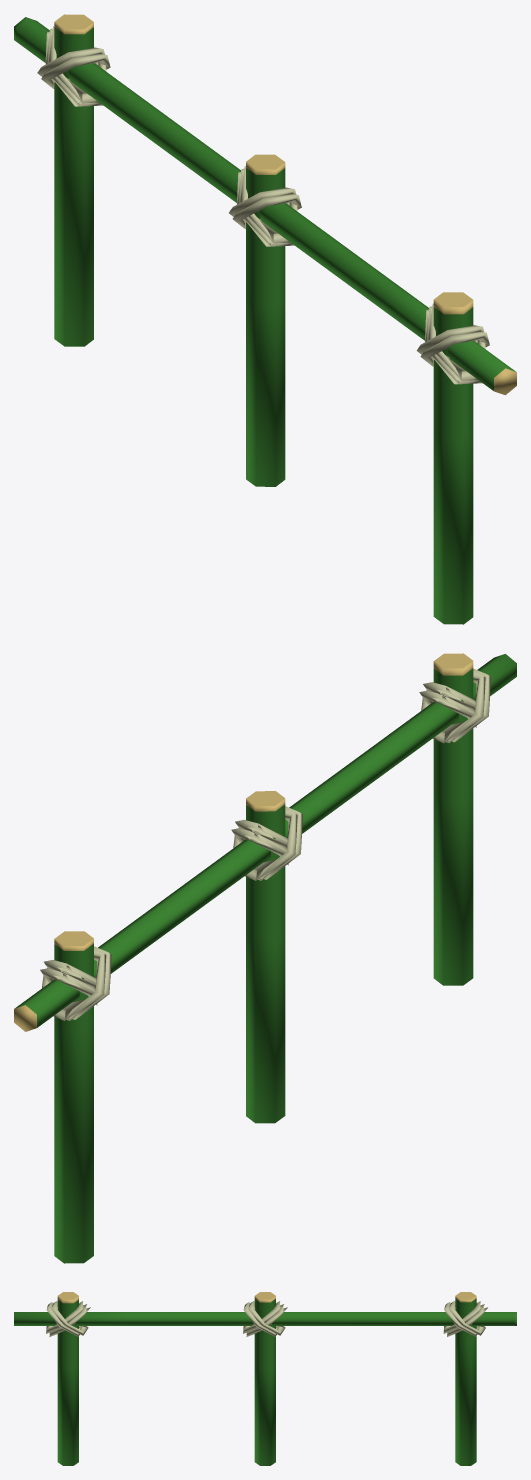
File: PembatasJalan.fbx
3 views of the same model, one above another, from view 1: azimuth 30°, elevation 25°; view 2: azimuth 150°, elevation 25°; view 3: azimuth 270°, elevation 25° (orthographic). The views are drawn at different scales.
Visible parts, largest first — view 1: PembatasJalan; view 2: PembatasJalan; view 3: PembatasJalan.
Part boxes in pixels (box(x1,y1,x2,y2)): PembatasJalan: box(14, 14, 516, 624); PembatasJalan: box(14, 653, 516, 1263); PembatasJalan: box(14, 1292, 516, 1465).
Size of the model in its own units: 77.49 by 1001 by 365.
